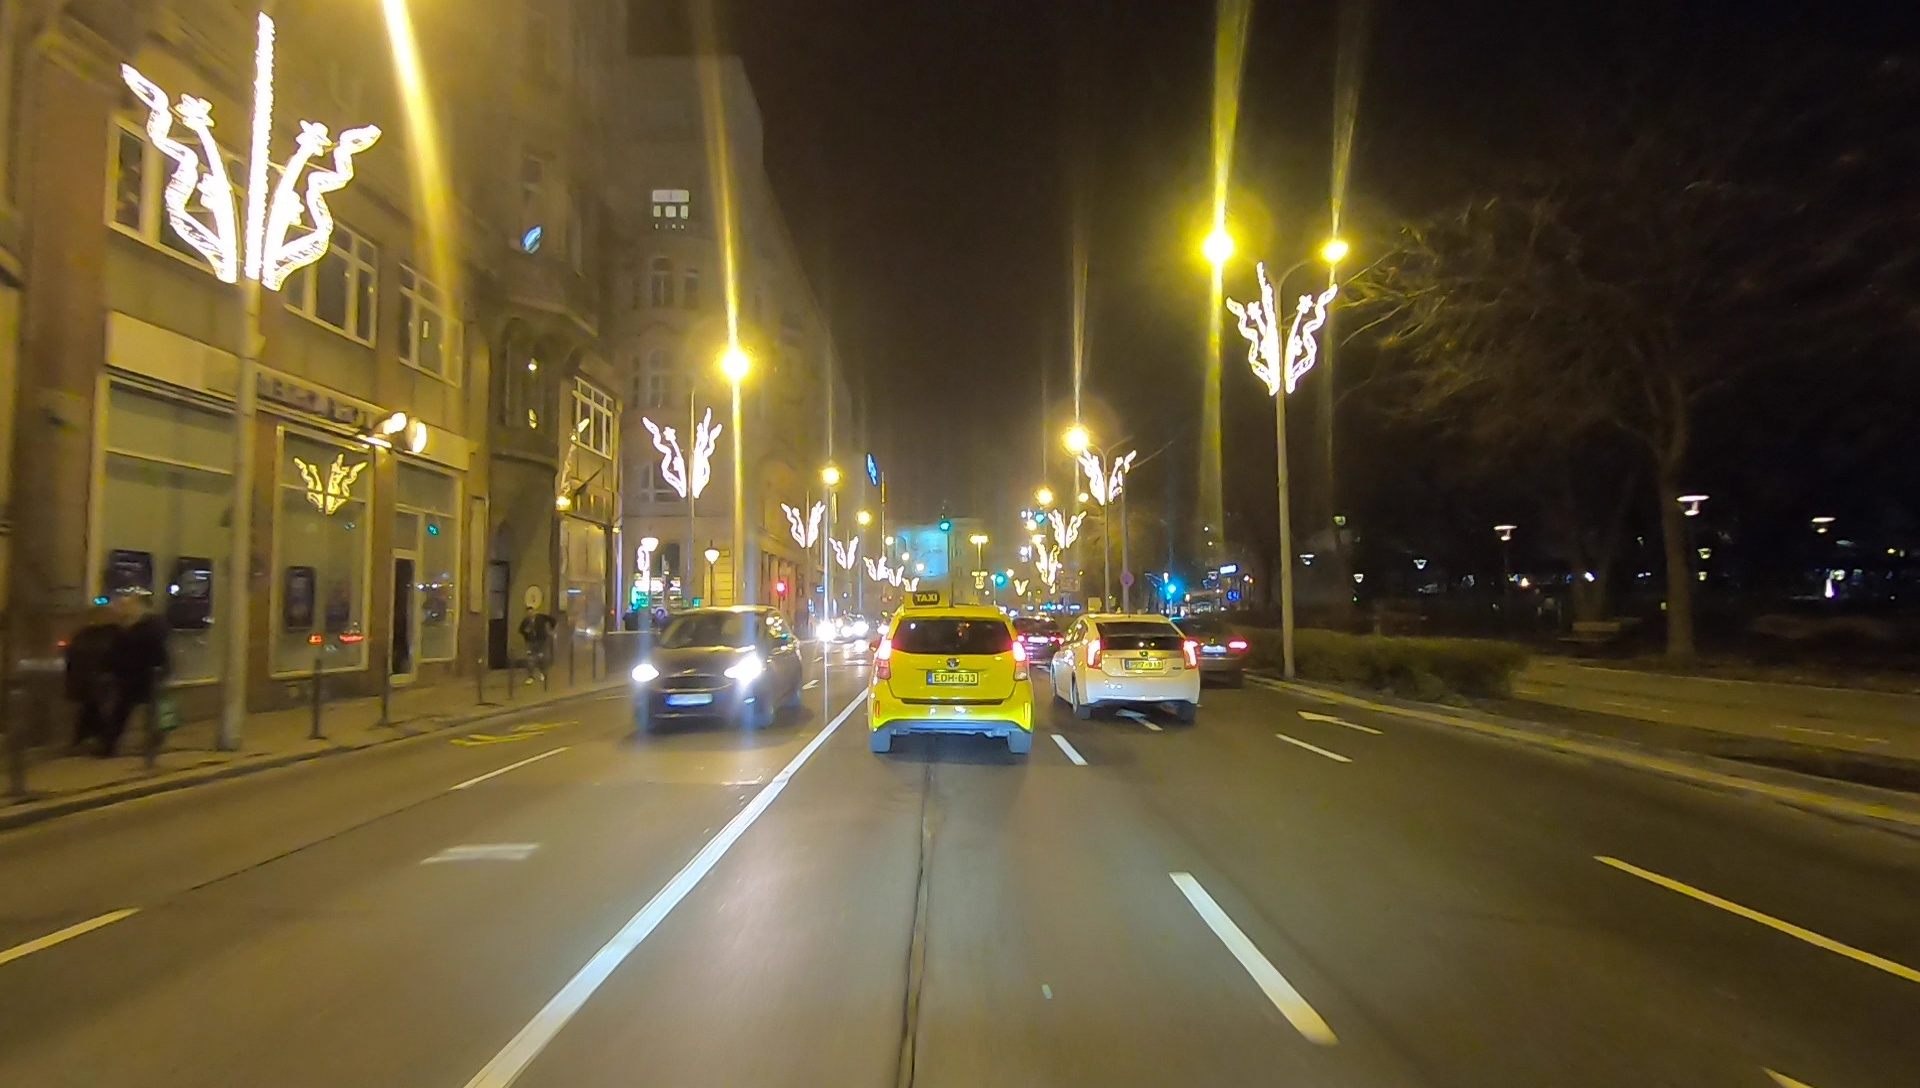person: (119, 599, 165, 769), (75, 600, 114, 758)
